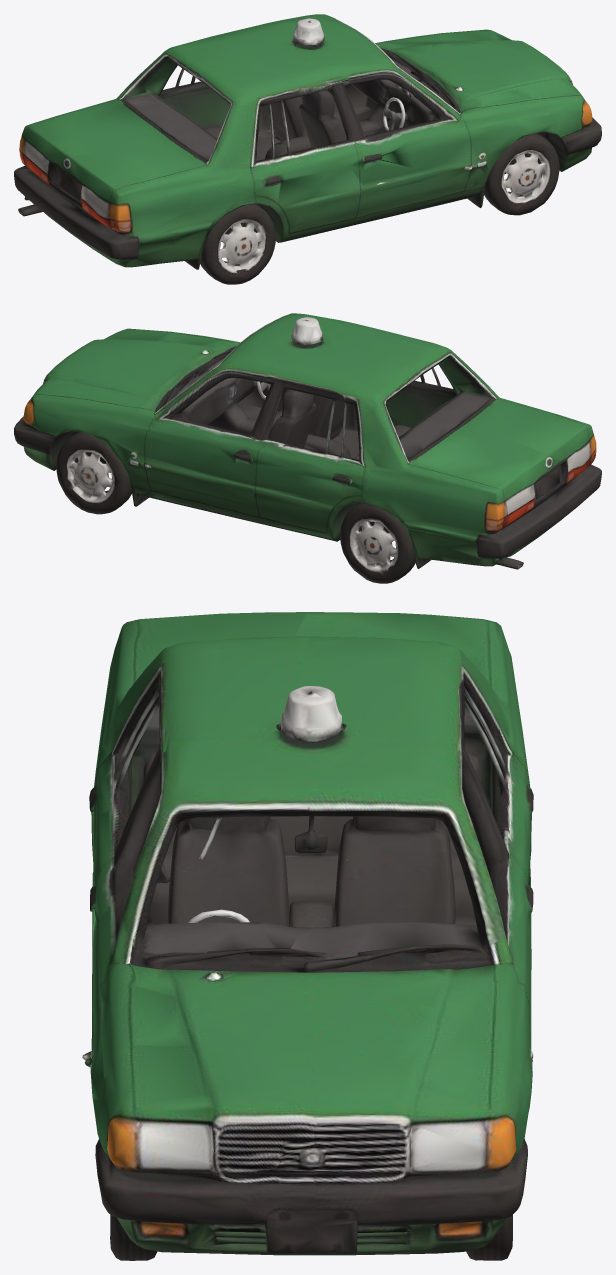
Rendered from taxi.glb.
3 renders of one model, top to bottom at view 1: azimuth 30°, elevation 25°; view 2: azimuth 150°, elevation 25°; view 3: azimuth 270°, elevation 25°, orthographic. The views are drawn at different scales.
Visible parts, largest first — view 1: tripo_node_c5d8ea57-e478-49d9-a3d6-34b1499ded4b; view 2: tripo_node_c5d8ea57-e478-49d9-a3d6-34b1499ded4b; view 3: tripo_node_c5d8ea57-e478-49d9-a3d6-34b1499ded4b.
Boxes of the visible parts, x1=… form: tripo_node_c5d8ea57-e478-49d9-a3d6-34b1499ded4b: x1=14, y1=14, x2=601, y2=284; tripo_node_c5d8ea57-e478-49d9-a3d6-34b1499ded4b: x1=14, y1=313, x2=601, y2=583; tripo_node_c5d8ea57-e478-49d9-a3d6-34b1499ded4b: x1=82, y1=612, x2=533, y2=1260.
Size of the model in its own units: 0.9996 by 0.3793 by 0.3883.
Materials: 1 (1 with a texture image).
